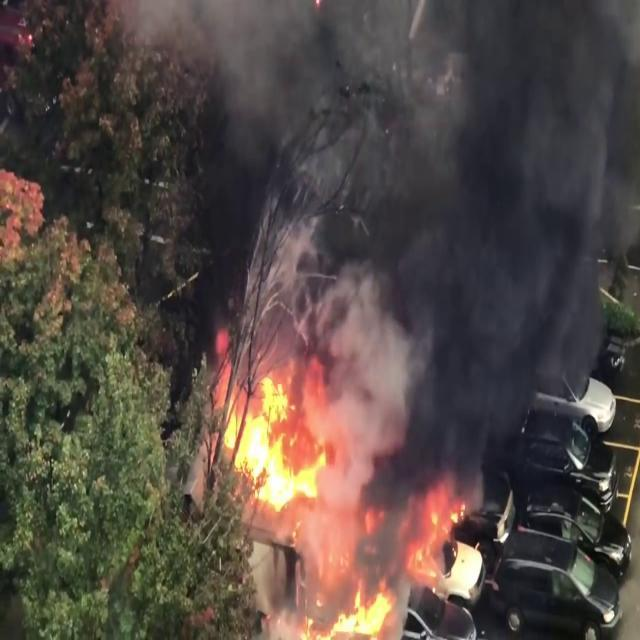Fire: (218, 372, 326, 516), (409, 483, 487, 601), (295, 578, 399, 640)
Smoke: (146, 0, 640, 491), (314, 0, 639, 493)
